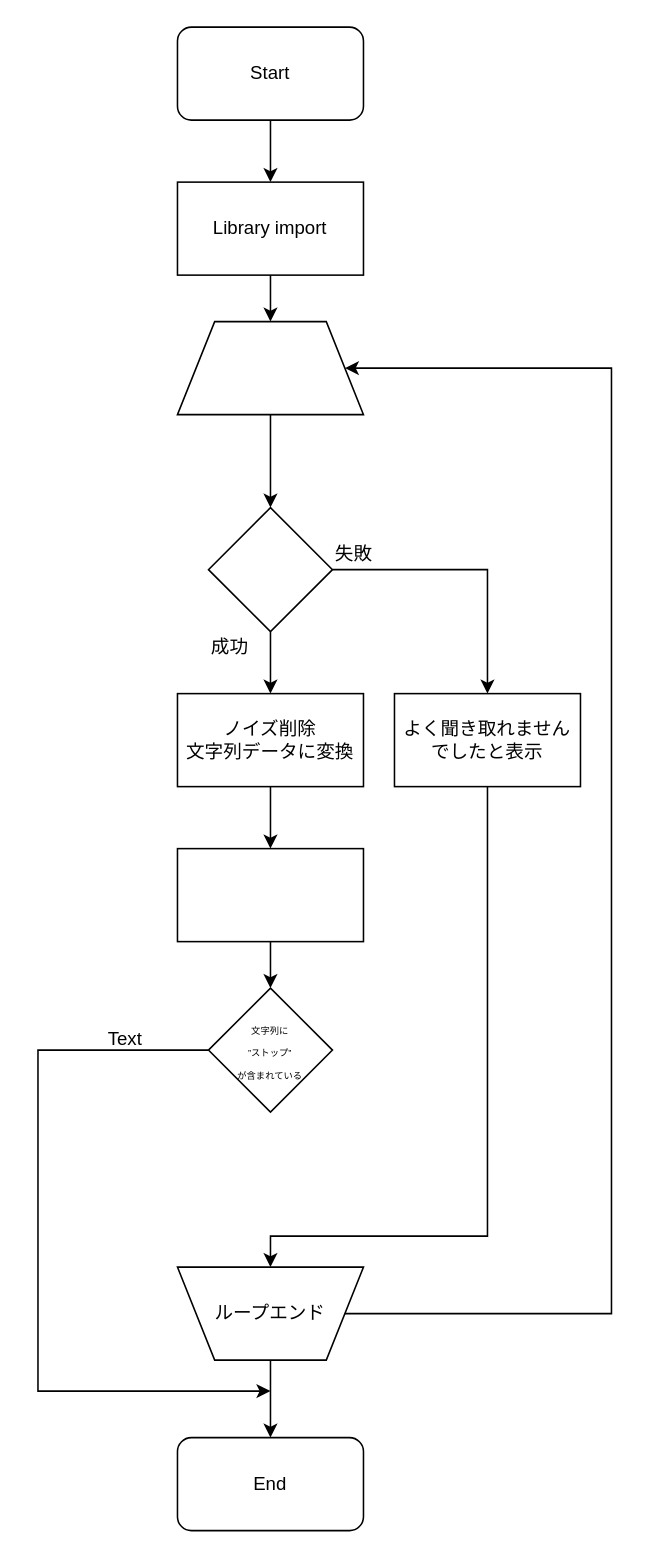
The diagram is 651 pixels wide and 1558 high, and some of its shapes have lost their labels. The shapes that lost their labels are listed below. From the top down, each one's centre as x and y in pixels, then its label:
At (x=269, y=367): "ループスタート".
At (x=269, y=569): "音声認識".
At (x=269, y=894): "文字列の形態素分析".
